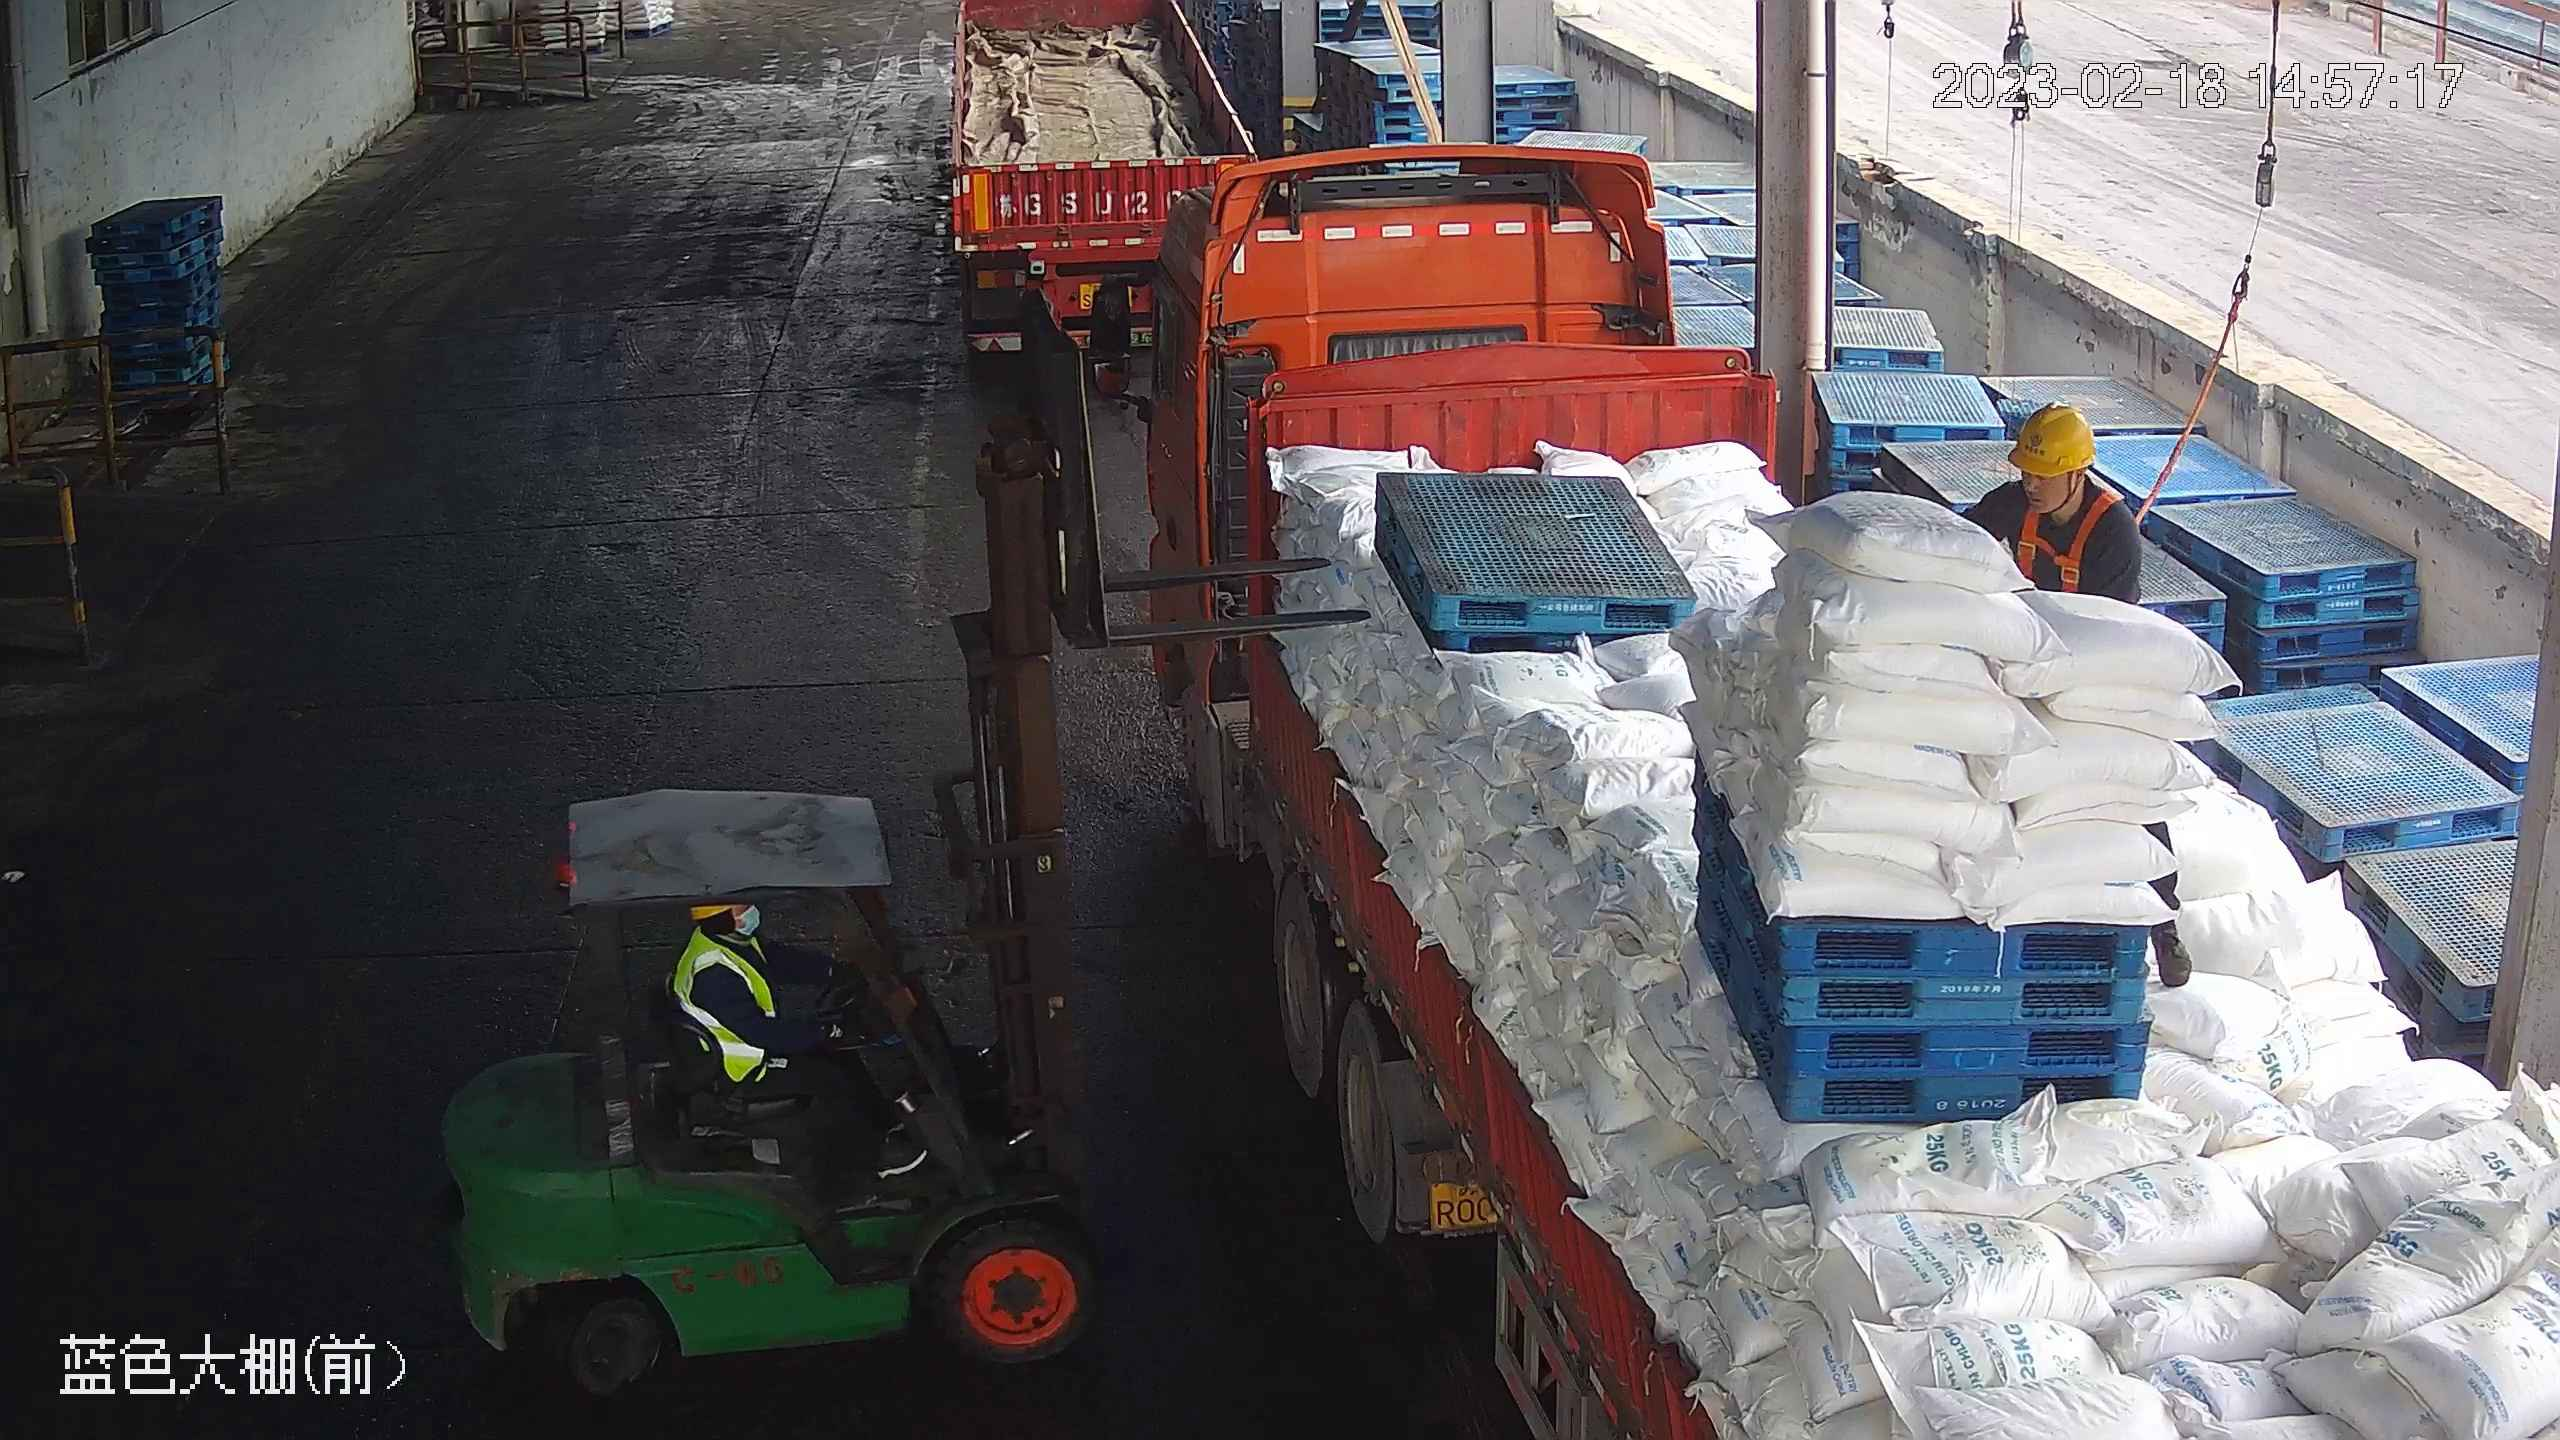belt: (2010, 482, 2125, 595)
head: (1979, 401, 2140, 554)
helmet: (2007, 400, 2097, 477)
people: (673, 896, 929, 1173)
truck: (943, 146, 2556, 1438), (925, 1, 1249, 313)
